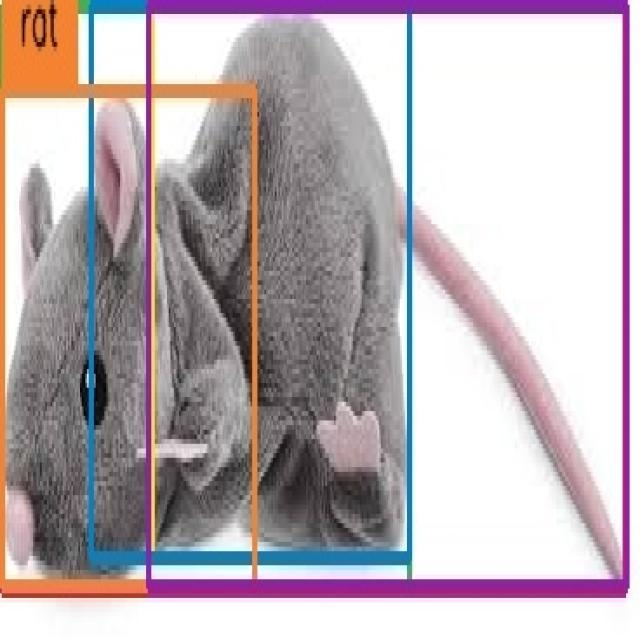rat: (3, 4, 625, 588), (148, 7, 626, 586), (2, 5, 410, 584), (91, 7, 410, 558), (152, 7, 410, 558), (2, 91, 254, 586)
